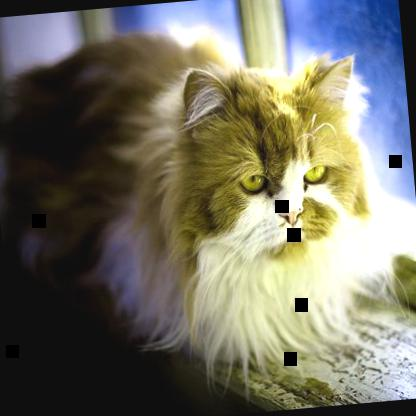cat: (0, 12, 396, 383)
